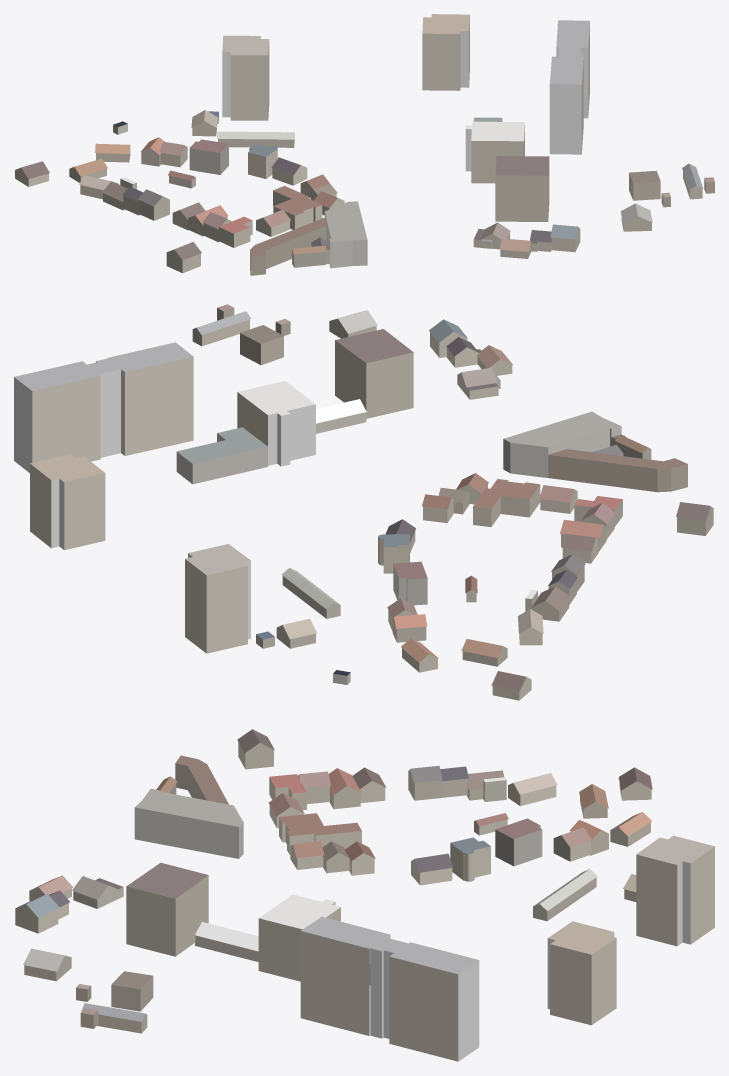
The picture shows the model from 3 angles, top to bottom: view 1: azimuth 30°, elevation 25°; view 2: azimuth 150°, elevation 25°; view 3: azimuth 270°, elevation 25°; orthographic projection. The views are drawn at different scales.
Parts seen in each view (by area): view 1: tuile; view 2: tuile; view 3: tuile.
Part boxes in pixels (x1,y1,x2,y2): tuile: (15, 14, 714, 275); tuile: (14, 304, 713, 700); tuile: (15, 729, 714, 1061).
Size of the model in its own units: 258 by 45.53 by 251.
